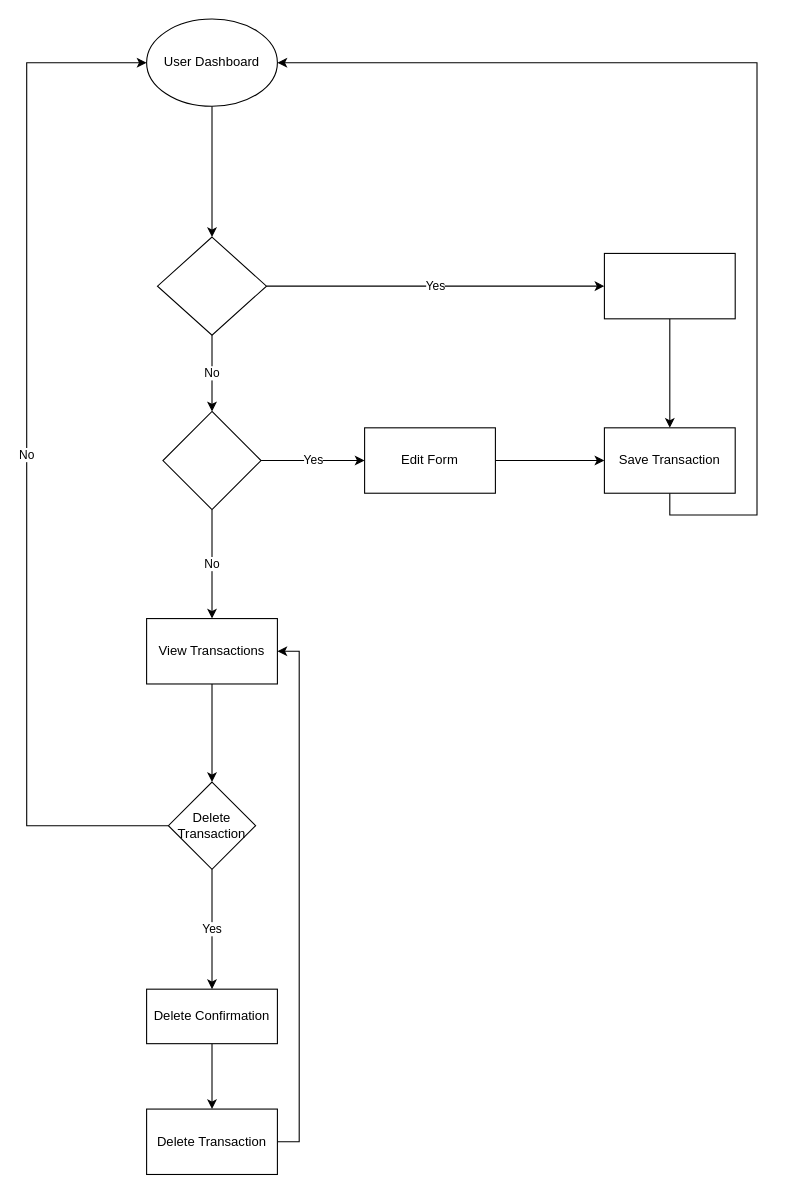
The diagram is 785 pixels wide and 1194 high, and some of its shapes have lost their labels. Each missing label, with the centre of its shape:
"Add Transaction" goes at (211,285).
"Edit Transaction" goes at (211,460).
"Transaction Form" goes at (669,285).
